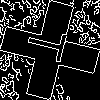T: (25, 25, 77, 66)
